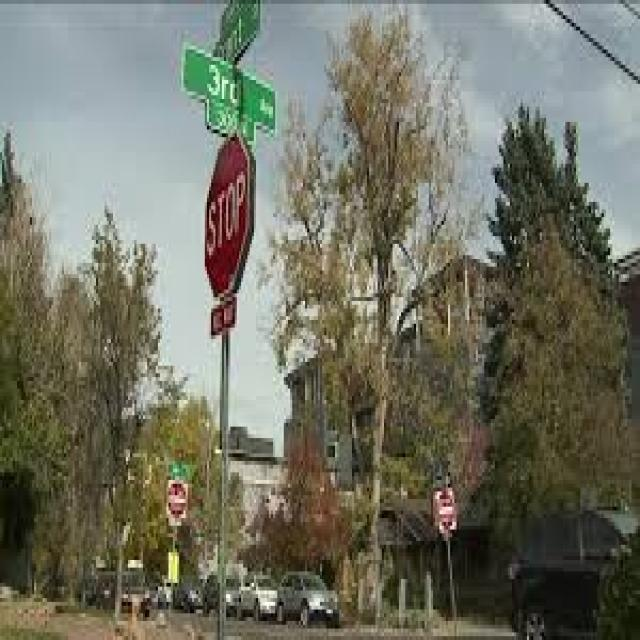stop-sign: (201, 142, 258, 286)
